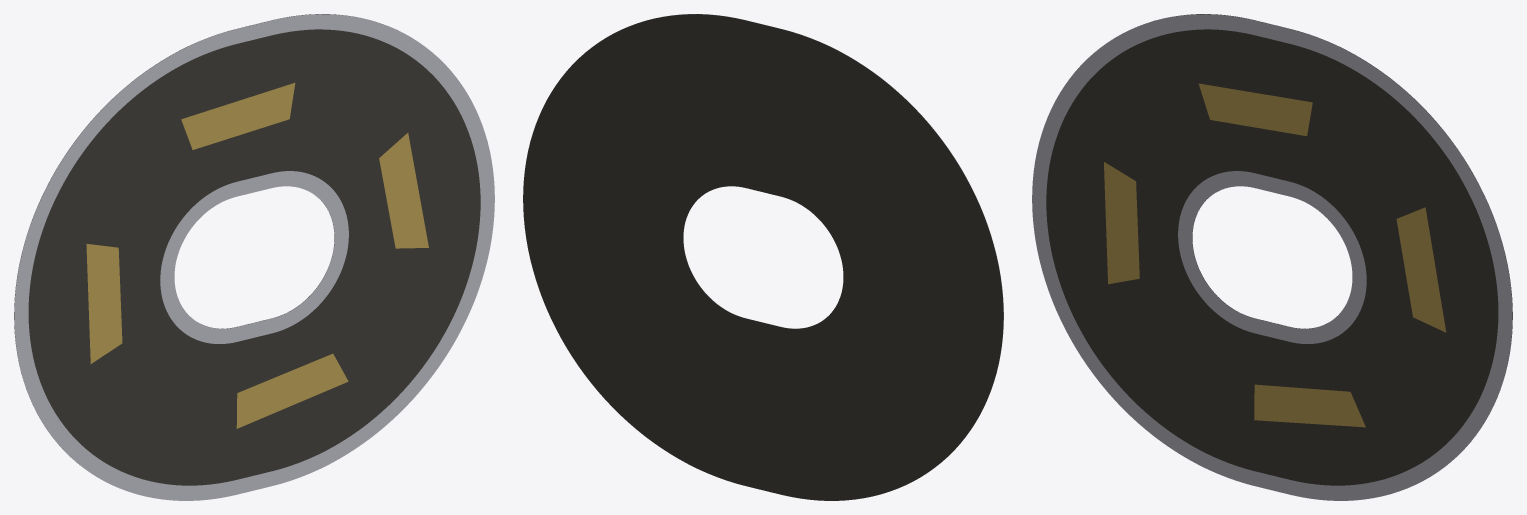
The model's file is track.obj.
3 renders of one model, left to right at view 1: azimuth 30°, elevation 25°; view 2: azimuth 150°, elevation 25°; view 3: azimuth 330°, elevation 25°, orthographic.
Size of the model in its own units: 1.35 by 1.25 by 0.002.
